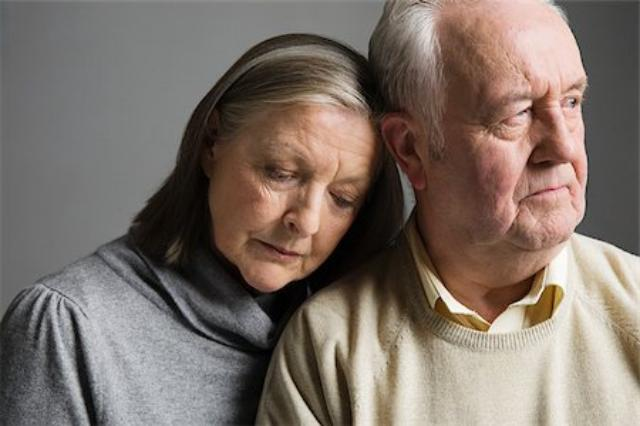crows_feet: (474, 119, 494, 138)
frown_line: (328, 156, 346, 184), (541, 78, 555, 100)
gummy_smile: (570, 156, 584, 188)
sad_smile: (503, 204, 522, 236)
